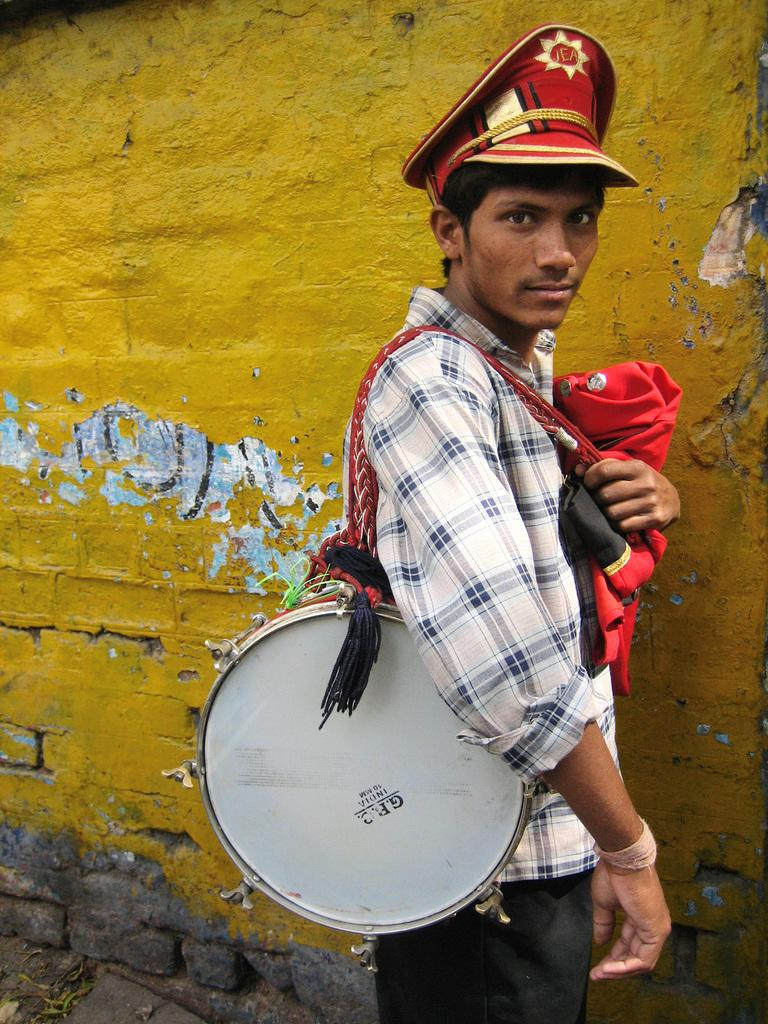Hat: (399, 24, 639, 210)
